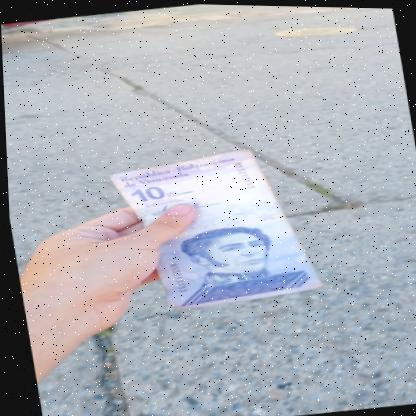ten-front-vef: (104, 139, 322, 317)
